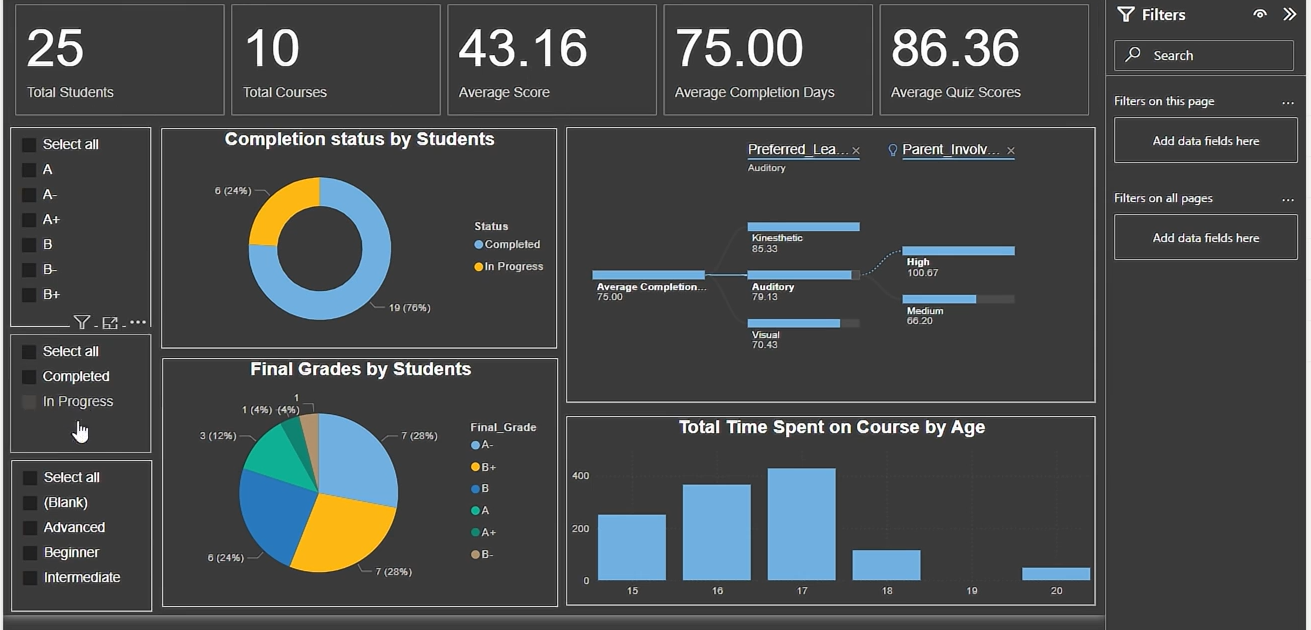

This screenshot's page, from the dashboard's own definition file:
{"tool":"powerbi","page":{"name":"Page 1","canvas":[1280,720],"ordinal":0},"visuals":[{"type":"clusteredColumnChart","title":"Total Time Spent on Course by Age","fields":{"Category":["dim_student.Age"],"Y":["Sum(fact_student_performance.Time_Spent_on_Course_hrs)"]},"box":[654,489.3,615,219.6],"z":0},{"type":"cardVisual","fields":{"Data":["Count(dim_student.Student_ID)","Count(dim_course.Course_ID)","Avg(fact_student_performance.Performance_Score)","Avg(fact_student_performance.Completion_Time_Days)","Avg(fact_student_performance.Quiz_Average_Score)"]},"box":[9.8,6.1,1260.5,139.1],"z":1},{"type":"pieChart","title":"Final Grades by Students","fields":{"Category":["fact_student_performance.Final_Grade"],"Y":["Count(fact_student_performance.Student_ID)"]},"box":[184.3,422.2,460,289.2],"z":2},{"type":"donutChart","title":"Completion status by Students","fields":{"Category":["fact_student_performance.Status"],"Y":["Count(fact_student_performance.Student_ID)"]},"box":[183,155,460,256.2],"z":3},{"type":"decompositionTreeVisual","fields":{"Analyze":["Avg(fact_student_performance.Completion_Time_Days)"],"ExplainBy":["dim_student.Preferred_Learning_Style","dim_student.Parent_Involvement"]},"box":[654,153.7,615,319.7],"z":4},{"type":"slicer","title":"Final Grade","fields":{"Values":["fact_student_performance.Final_Grade"]},"box":[8.5,153.7,163.5,231.8],"z":5},{"type":"slicer","title":"Status","fields":{"Values":["fact_student_performance.Status"]},"box":[8.5,394.1,163.5,137.9],"z":6},{"type":"slicer","title":"Language Proficiency","fields":{"Values":["dim_student.Language_Proficiency"]},"box":[9.8,540.6,163.5,175.7],"z":7}]}

Visuals, with their boxes in screenshot pixels (x1, y1, x2, y2):
"Total Time Spent on Course by Age" clusteredColumnChart: bbox=(559, 420, 1091, 610)
cardVisual - Count(dim_student.Student_ID) x Count(dim_course.Course_ID): bbox=(2, 2, 1092, 122)
"Final Grades by Students" pieChart: bbox=(153, 362, 551, 612)
"Completion status by Students" donutChart: bbox=(151, 131, 549, 352)
decompositionTreeVisual - Avg(fact_student_performance.Completion_Time_Days) x dim_student.Preferred_Learning_Style: bbox=(559, 130, 1091, 406)
"Final Grade" slicer: bbox=(1, 130, 142, 330)
"Status" slicer: bbox=(1, 338, 142, 457)
"Language Proficiency" slicer: bbox=(2, 464, 143, 616)
